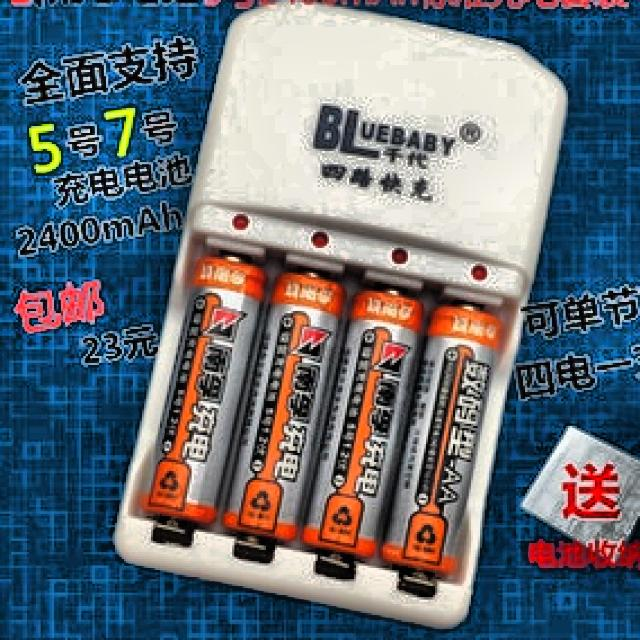Non-Valuable Waste - Batteries: (141, 256, 266, 524), (222, 272, 345, 540), (381, 305, 502, 574), (302, 290, 423, 558)
